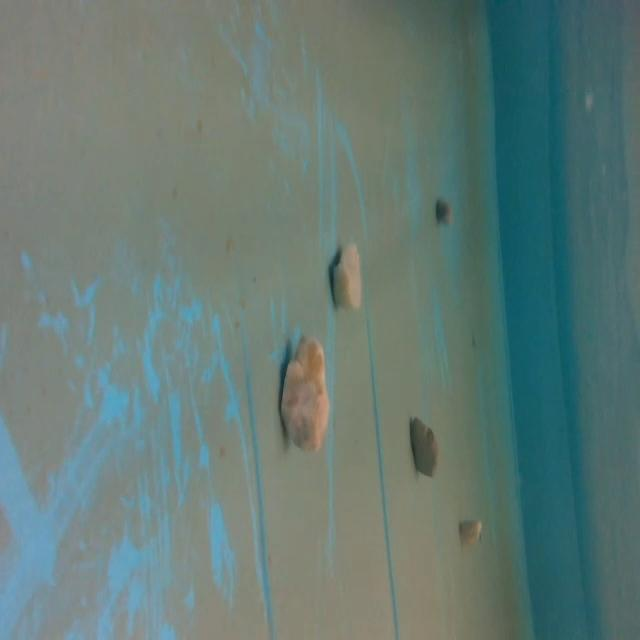rock: (278, 323, 332, 457), (330, 236, 364, 318), (403, 410, 440, 482), (458, 514, 483, 554), (431, 195, 454, 233)
